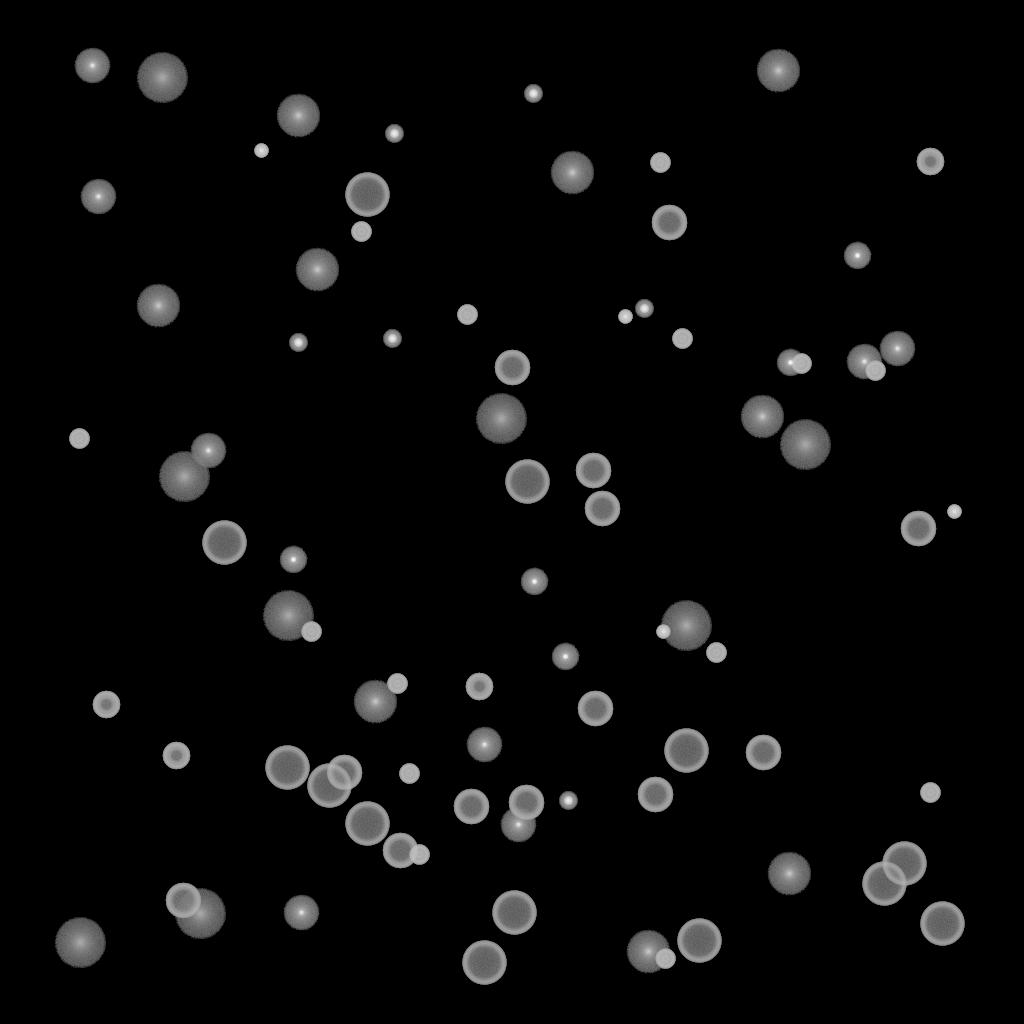depth:-10: (520, 568, 548, 596), (776, 349, 804, 377), (279, 546, 307, 574), (551, 643, 579, 671), (843, 242, 871, 270)
depth:-20: (635, 300, 653, 318), (524, 85, 542, 103), (559, 792, 577, 810), (383, 330, 401, 348), (289, 334, 307, 352), (385, 125, 403, 143)
depth:-30: (947, 505, 961, 519), (618, 310, 632, 324), (656, 625, 670, 639), (254, 144, 268, 158)
depth:-40: (457, 305, 477, 325), (672, 329, 692, 349), (409, 845, 429, 865), (387, 674, 407, 694), (351, 222, 371, 242), (706, 643, 726, 663), (655, 949, 675, 969), (865, 361, 885, 381), (301, 622, 321, 642), (650, 153, 670, 173), (399, 764, 419, 784), (920, 783, 940, 803), (791, 354, 811, 374), (69, 429, 89, 449)
depth:-50: (465, 673, 493, 701), (162, 742, 190, 770), (92, 691, 120, 719), (916, 148, 944, 176)
depth:-60: (900, 511, 936, 547), (326, 755, 362, 791), (584, 491, 620, 527), (382, 833, 418, 869), (494, 350, 530, 386), (453, 789, 489, 825), (637, 777, 673, 813), (575, 453, 611, 489), (508, 785, 544, 821), (651, 205, 687, 241), (745, 735, 781, 771), (165, 883, 201, 919), (577, 691, 613, 727)
depth:-70: (265, 746, 309, 790), (882, 842, 926, 886), (462, 941, 506, 985), (492, 891, 536, 935), (920, 902, 964, 946), (307, 764, 351, 808), (345, 802, 389, 846), (677, 919, 721, 963), (505, 460, 549, 504), (862, 862, 906, 906), (664, 729, 708, 773), (202, 521, 246, 565), (345, 173, 389, 217)
depth:0: (879, 331, 915, 367), (846, 344, 882, 380), (74, 48, 110, 84), (80, 179, 116, 215), (190, 433, 226, 469), (500, 807, 536, 843), (466, 727, 502, 763), (283, 895, 319, 931)
depth:10: (295, 248, 339, 292), (740, 395, 784, 439), (756, 49, 800, 93), (276, 94, 320, 138), (626, 930, 670, 974), (353, 680, 397, 724), (550, 151, 594, 195), (136, 284, 180, 328), (767, 852, 811, 896)
depth:20: (779, 420, 831, 470), (174, 889, 226, 939), (475, 394, 527, 444), (158, 452, 210, 502), (136, 53, 188, 103), (54, 918, 106, 968), (660, 601, 712, 651), (262, 591, 314, 641)
